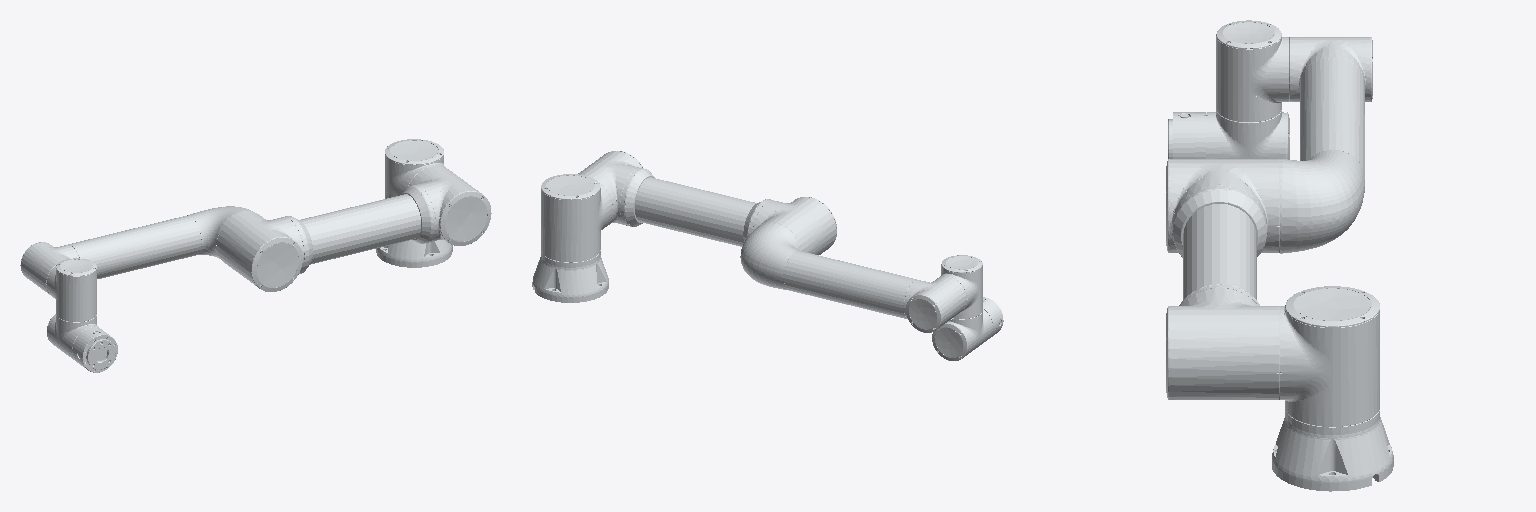
The robot description file, URDF, robot "fr5v6":
<?xml version="1.0" encoding="utf-8"?>
<!-- This URDF was automatically created by SolidWorks to URDF Exporter! Originally created by [author] ([email redacted]) 
     Commit Version: 1.5.1-0-g916b5db  Build Version: 1.5.7152.31018
     For more information, please see http://wiki.ros.org/sw_urdf_exporter -->
<robot
  name="fr5v6">
  
  <link name="world">
  </link>
  <joint name="world" type="fixed">
    <parent link="world"/>
    <child link="base_link"/>
  </joint>

  <link
    name="base_link">
    <inertial>
      <origin
        xyz="-0.00031896 -0.00029673 0.042463"
        rpy="0 0 0" />
      <mass
        value="1.6185" />
      <inertia
        ixx="0.0030836"
        ixy="1.5354E-05"
        ixz="-1.9315E-05"
        iyy="0.0030825"
        iyz="-1.7918E-05"
        izz="0.0045209" />
    </inertial>
    <visual>
      <origin
        xyz="0 0 0"
        rpy="0 0 0" />
      <geometry>
        <mesh
          filename="package://frcobot_description/meshes/fr5v6/visual-stl/base_link.stl" />
      </geometry>
      <material
        name="">
        <color
          rgba="0.89804 0.91765 0.92941 1" />
      </material>
    </visual>
    <collision>
      <origin
        xyz="0 0 0"
        rpy="0 0 0" />
      <geometry>
        <mesh
          filename="package://frcobot_description/meshes/fr5v6/collision/base_link.STL" />
      </geometry>
    </collision>
  </link>
  <link
    name="j1_Link">
    <inertial>
      <origin
        xyz="5.0029E-07 -0.0040922 0.14629"
        rpy="0 0 0" />
      <mass
        value="4.3771" />
      <inertia
        ixx="0.010731"
        ixy="-8.0587E-09"
        ixz="-3.6773E-08"
        iyy="0.010408"
        iyz="0.00012853"
        izz="0.0081793" />
    </inertial>
    <visual>
      <origin
        xyz="0 0 0"
        rpy="0 0 0" />
      <geometry>
        <mesh
          filename="package://frcobot_description/meshes/fr5v6/visual-stl/j1_Link.stl" />
      </geometry>
      <material
        name="">
        <color
          rgba="0.89804 0.91765 0.92941 1" />
      </material>
    </visual>
    <collision>
      <origin
        xyz="0 0 0"
        rpy="0 0 0" />
      <geometry>
        <mesh
          filename="package://frcobot_description/meshes/fr5v6/collision/j1_Link.STL" />
      </geometry>
    </collision>
  </link>
  <joint
    name="j1"
    type="revolute">
    <origin
      xyz="0 0 0"
      rpy="0 0 0" />
    <parent
      link="base_link" />
    <child
      link="j1_Link" />
    <axis
      xyz="0 0 1" />
    <limit
      lower="-3.0543"
      upper="3.0543"
      effort="150"
      velocity="3.15" />
    <calibration
      rising="0"
      falling="0" />
    <dynamics
      damping="0"
      friction="0" />
    <safety_controller
      soft_lower_limit="-3.0543"
      soft_upper_limit="3.0543"
      k_position="15"
      k_velocity="10" />
  </joint>
  <link
    name="j2_Link">
    <inertial>
      <origin
        xyz="-0.2125 -5.7643E-09 0.1346"
        rpy="0 0 0" />
      <mass
        value="14.458" />
      <inertia
        ixx="0.028392"
        ixy="-1.337E-07"
        ixz="-3.9895E-09"
        iyy="0.4559"
        iyz="4.214E-08"
        izz="0.44974" />
    </inertial>
    <visual>
      <origin
        xyz="0 0 0"
        rpy="0 0 0" />
      <geometry>
        <mesh
          filename="package://frcobot_description/meshes/fr5v6/visual-stl/j2_Link.stl" />
      </geometry>
      <material
        name="">
        <color
          rgba="0.89804 0.91765 0.92941 1" />
      </material>
    </visual>
    <collision>
      <origin
        xyz="0 0 0"
        rpy="0 0 0" />
      <geometry>
        <mesh
          filename="package://frcobot_description/meshes/fr5v6/collision/j2_Link.STL" />
      </geometry>
    </collision>
  </link>
  <joint
    name="j2"
    type="revolute">
    <origin
      xyz="0 0 0.152"
      rpy="1.5708 0 0" />
    <parent
      link="j1_Link" />
    <child
      link="j2_Link" />
    <axis
      xyz="0 0 1" />
    <limit
      lower="-4.6251"
      upper="1.4835"
      effort="150"
      velocity="3.15" />
    <calibration
      rising="0"
      falling="0" />
    <dynamics
      damping="0"
      friction="0" />
    <safety_controller
      soft_lower_limit="-4.6251"
      soft_upper_limit="1.4835"
      k_position="15"
      k_velocity="10" />
  </joint>
  <link
    name="j3_Link">
    <inertial>
      <origin
        xyz="-0.18793 -8.4503E-07 0.0066357"
        rpy="0 0 0" />
      <mass
        value="7.6737" />
      <inertia
        ixx="0.0085096"
        ixy="2.1613E-06"
        ixz="-0.0068678"
        iyy="0.16971"
        iyz="3.7086E-08"
        izz="0.16854" />
    </inertial>
    <visual>
      <origin
        xyz="0 0 0"
        rpy="0 0 0" />
      <geometry>
        <mesh
          filename="package://frcobot_description/meshes/fr5v6/visual-stl/j3_Link.stl" />
      </geometry>
      <material
        name="">
        <color
          rgba="0.89804 0.91765 0.92941 1" />
      </material>
    </visual>
    <collision>
      <origin
        xyz="0 0 0"
        rpy="0 0 0" />
      <geometry>
        <mesh
          filename="package://frcobot_description/meshes/fr5v6/collision/j3_Link.STL" />
      </geometry>
    </collision>
  </link>
  <joint
    name="j3"
    type="revolute">
    <origin
      xyz="-0.425 0 0"
      rpy="0 0 0" />
    <parent
      link="j2_Link" />
    <child
      link="j3_Link" />
    <axis
      xyz="0 0 1" />
    <limit
      lower="-2.8274"
      upper="2.8274"
      effort="150"
      velocity="3.15" />
    <calibration
      rising="0"
      falling="0" />
    <dynamics
      damping="0"
      friction="0" />
    <safety_controller
      soft_lower_limit="-2.8274"
      soft_upper_limit="2.8274"
      k_position="15"
      k_velocity="10" />
  </joint>
  <link
    name="j4_Link">
    <inertial>
      <origin
        xyz="4.98E-07 -0.003754 0.097155"
        rpy="0 0 0" />
      <mass
        value="1.6266" />
      <inertia
        ixx="0.00216"
        ixy="4.888E-09"
        ixz="3.1528E-08"
        iyy="0.0015455"
        iyz="3.7678E-05"
        izz="0.0019902" />
    </inertial>
    <visual>
      <origin
        xyz="0 0 0"
        rpy="0 0 0" />
      <geometry>
        <mesh
          filename="package://frcobot_description/meshes/fr5v6/visual-stl/j4_Link.stl" />
      </geometry>
      <material
        name="">
        <color
          rgba="0.89804 0.91765 0.92941 1" />
      </material>
    </visual>
    <collision>
      <origin
        xyz="0 0 0"
        rpy="0 0 0" />
      <geometry>
        <mesh
          filename="package://frcobot_description/meshes/fr5v6/collision/j4_Link.STL" />
      </geometry>
    </collision>
  </link>
  <joint
    name="j4"
    type="revolute">
    <origin
      xyz="-0.39501 0 0"
      rpy="0 0 0" />
    <parent
      link="j3_Link" />
    <child
      link="j4_Link" />
    <axis
      xyz="0 0 1" />
    <limit
      lower="-4.6251"
      upper="1.4835"
      effort="28"
      velocity="3.2" />
    <calibration
      rising="0"
      falling="0" />
    <dynamics
      damping="0"
      friction="0" />
    <safety_controller
      soft_lower_limit="-4.6251"
      soft_upper_limit="1.4835"
      k_position="15"
      k_velocity="10" />
  </joint>
  <link
    name="j5_Link">
    <inertial>
      <origin
        xyz="-4.5588E-07 0.0038617 0.098257"
        rpy="0 0 0" />
      <mass
        value="1.5812" />
      <inertia
        ixx="0.0020612"
        ixy="8.7064E-09"
        ixz="-3.4742E-08"
        iyy="0.0014477"
        iyz="-2.8534E-05"
        izz="0.0019573" />
    </inertial>
    <visual>
      <origin
        xyz="0 0 0"
        rpy="0 0 0" />
      <geometry>
        <mesh
          filename="package://frcobot_description/meshes/fr5v6/visual-stl/j5_Link.stl" />
      </geometry>
      <material
        name="">
        <color
          rgba="0.89804 0.91765 0.92941 1" />
      </material>
    </visual>
    <collision>
      <origins
        xyz="0 0 0"
        rpy="0 0 0" />
      <geometry>
        <mesh
          filename="package://frcobot_description/meshes/fr5v6/collision/j5_Link.STL" />
      </geometry>
    </collision>
  </link>
  <joint
    name="j5"
    type="revolute">
    <origin
      xyz="0 0 0.1021"
      rpy="1.5708 0 0" />
    <parent
      link="j4_Link" />
    <child
      link="j5_Link" />
    <axis
      xyz="0 0 1" />
    <limit
      lower="-3.0543"
      upper="3.0543"
      effort="28"
      velocity="3.2" />
    <calibration
      rising="0"
      falling="0" />
    <dynamics
      damping="0"
      friction="0" />
    <safety_controller
      soft_lower_limit="-3.0543"
      soft_upper_limit="3.0543"
      k_position="15"
      k_velocity="10" />
  </joint>
  <link
    name="j6_Link">
    <inertial>
      <origin
        xyz="7.7496E-05 1.7751E-05 0.076122"
        rpy="0 0 0" />
      <mass
        value="0.52542" />
      <inertia
        ixx="0.00027721"
        ixy="-1.8677E-09"
        ixz="-1.188E-07"
        iyy="0.00027839"
        iyz="2.2607E-07"
        izz="0.00041605" />
    </inertial>
    <visual>
      <origin
        xyz="0 0 0"
        rpy="0 0 0" />
      <geometry>
        <mesh
          filename="package://frcobot_description/meshes/fr5v6/visual-stl/j6_Link.stl" />
      </geometry>
      <material
        name="">
        <color
          rgba="0.89804 0.91765 0.92941 1" />
      </material>
    </visual>
    <collision>
      <origin
        xyz="0 0 0"
        rpy="0 0 0" />
      <geometry>
        <mesh
          filename="package://frcobot_description/meshes/fr5v6/collision/j6_Link.STL" />
      </geometry>
    </collision>
  </link>
  <joint
    name="j6"
    type="revolute">
    <origin
      xyz="0 0 0.102"
      rpy="-1.5708 0 0" />
    <parent
      link="j5_Link" />
    <child
      link="j6_Link" />
    <axis
      xyz="0 0 1" />
    <limit
      lower="-3.0543"
      upper="3.0543"
      effort="28"
      velocity="3.2" />
    <calibration
      rising="0"
      falling="0" />
    <dynamics
      damping="0"
      friction="0" />
    <safety_controller
      soft_lower_limit="-3.0543"
      soft_upper_limit="3.0543"
      k_position="15"
      k_velocity="10" />
  </joint>
</robot>

--- What the picture shows (computed from the rendered views, not written in the file) ---
3 views of the same robot in one strip: view 1: azimuth 30°, elevation 25°; view 2: azimuth 150°, elevation 25°; view 3: azimuth 270°, elevation 25° (orthographic).
Robot: fr5v6 — 8 links, 7 joints (6 revolute, 1 fixed); root link world; default pose: all joints at 0.
Visible links, largest first — view 1: j2_Link, j3_Link, j4_Link, j1_Link, base_link, j6_Link, j5_Link; view 2: j2_Link, j3_Link, j1_Link, base_link, j5_Link, j4_Link; view 3: j2_Link, j3_Link, j1_Link, base_link, j4_Link, j5_Link, j6_Link.
Link boxes in pixels (x1=…): j2_Link: x1=217, y1=166, x2=491, y2=291; j3_Link: x1=20, y1=206, x2=254, y2=294; j4_Link: x1=46, y1=258, x2=96, y2=321; j1_Link: x1=385, y1=139, x2=444, y2=198; base_link: x1=376, y1=240, x2=452, y2=267; j6_Link: x1=72, y1=327, x2=117, y2=372; j5_Link: x1=47, y1=314, x2=98, y2=360; j2_Link: x1=578, y1=151, x2=836, y2=254; j3_Link: x1=740, y1=222, x2=966, y2=332; j1_Link: x1=541, y1=174, x2=612, y2=262; base_link: x1=532, y1=250, x2=608, y2=302; j5_Link: x1=932, y1=309, x2=992, y2=360; j4_Link: x1=940, y1=255, x2=982, y2=318; j2_Link: x1=1166, y1=159, x2=1279, y2=399; j3_Link: x1=1280, y1=37, x2=1372, y2=253; j1_Link: x1=1280, y1=286, x2=1379, y2=426; base_link: x1=1272, y1=408, x2=1393, y2=491; j4_Link: x1=1216, y1=20, x2=1288, y2=121; j5_Link: x1=1206, y1=109, x2=1289, y2=159; j6_Link: x1=1168, y1=112, x2=1205, y2=158.
Bounding box of the posed robot: 0.9344 × 0.2779 × 0.2174 m (x, y, z).
Meshes: 7 distinct files referenced, 7 mesh visuals loaded (7 binary STL).